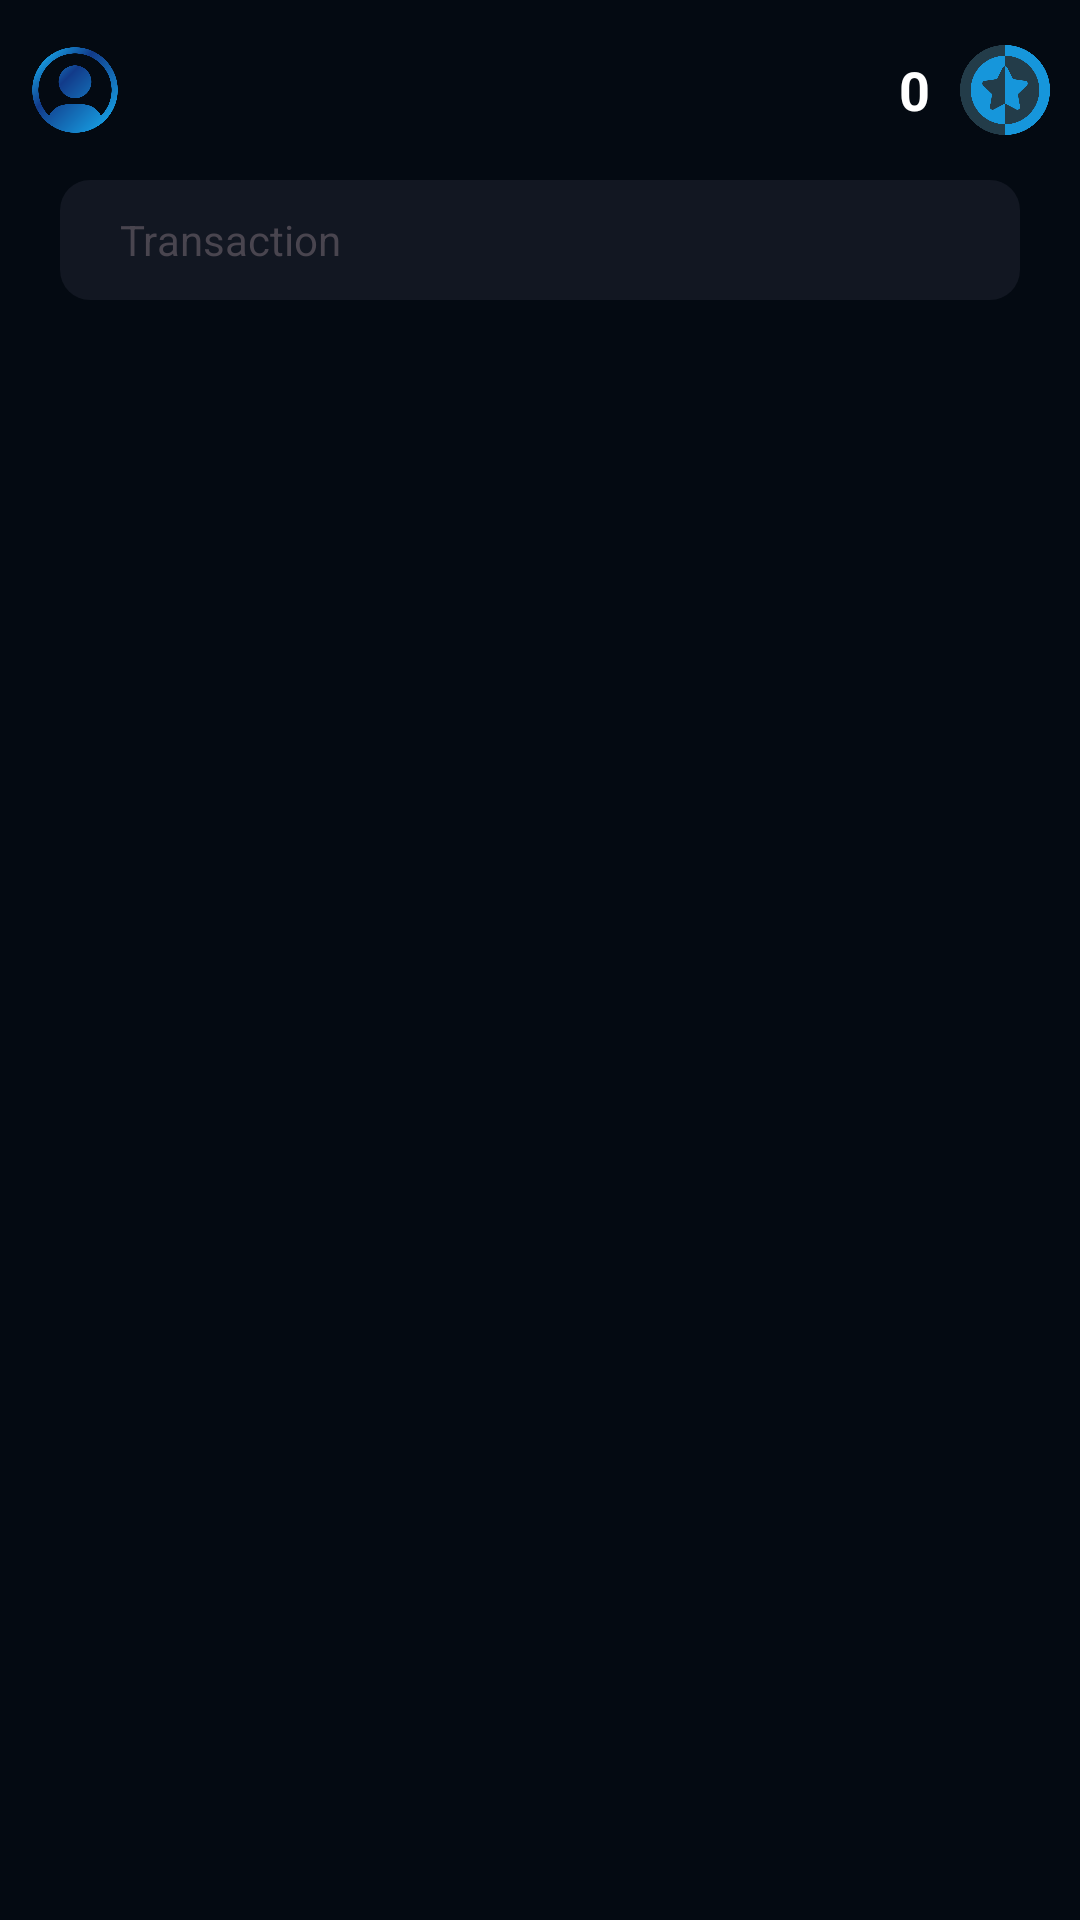

Icon click points for this 1080 x 1920 phone screenshot, format (x=x, y=y):
coin: (x=1005, y=90)
user: (x=75, y=90)
